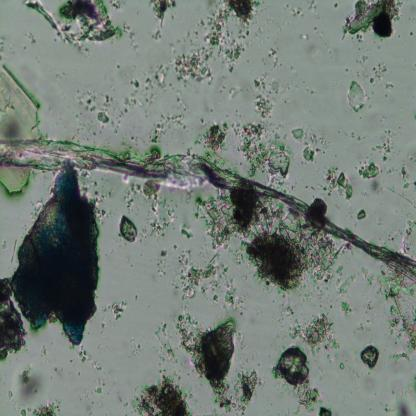Background material: (209, 191, 343, 293), (174, 311, 260, 412), (173, 0, 259, 85), (27, 1, 119, 44), (178, 250, 242, 307), (237, 118, 291, 181), (0, 64, 42, 141), (341, 0, 404, 46), (276, 343, 319, 407), (118, 66, 168, 115), (132, 374, 191, 414), (285, 312, 339, 354), (139, 180, 178, 238), (387, 270, 416, 347), (0, 277, 26, 358), (197, 121, 230, 158), (78, 368, 107, 410), (150, 112, 186, 145), (252, 79, 280, 121), (322, 166, 355, 201), (0, 164, 32, 200), (336, 263, 356, 320), (294, 123, 319, 164), (151, 0, 176, 41), (388, 380, 416, 415), (153, 323, 178, 362), (16, 368, 45, 400), (78, 88, 111, 112), (348, 79, 369, 114), (358, 342, 382, 371), (118, 213, 139, 244), (101, 299, 129, 322), (119, 22, 138, 53), (19, 402, 59, 415), (378, 128, 392, 162), (404, 220, 416, 258), (155, 248, 169, 280), (399, 166, 416, 190), (370, 61, 389, 82), (360, 162, 382, 180), (359, 262, 376, 285), (284, 5, 304, 20), (267, 46, 280, 69), (96, 109, 111, 128), (305, 0, 320, 18), (76, 347, 90, 365), (316, 405, 334, 416), (335, 360, 349, 374), (179, 225, 192, 240), (356, 205, 367, 221), (332, 1, 338, 10)
Cellulose filter fibre: (0, 138, 416, 281)
Fragment: (9, 165, 102, 358)
